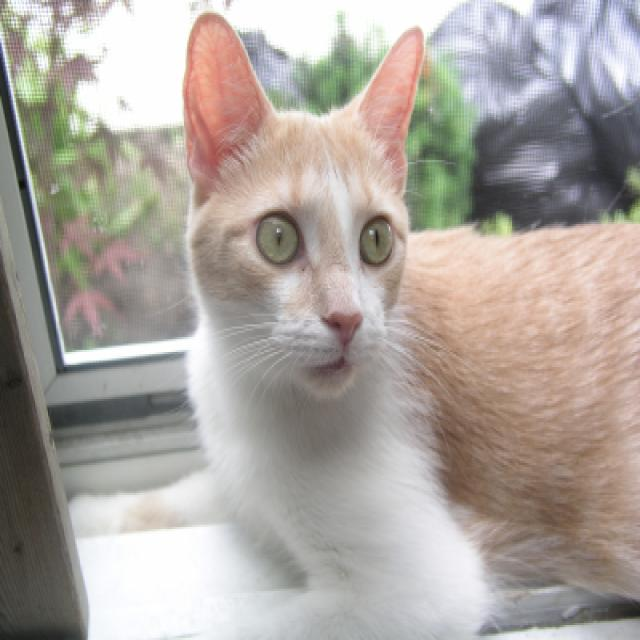Cat: (66, 8, 638, 638)
